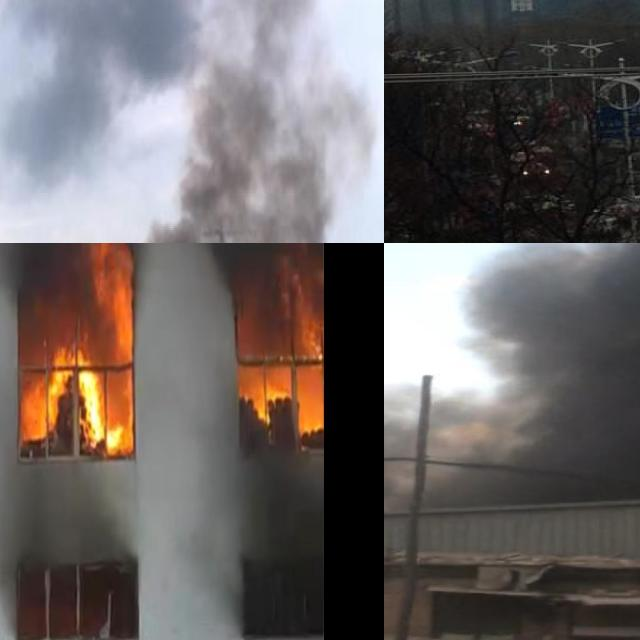fire: (19, 243, 135, 464), (236, 277, 324, 438), (21, 342, 135, 454)
smoke: (0, 0, 379, 243), (384, 243, 640, 515), (6, 243, 84, 318), (206, 243, 304, 270)
